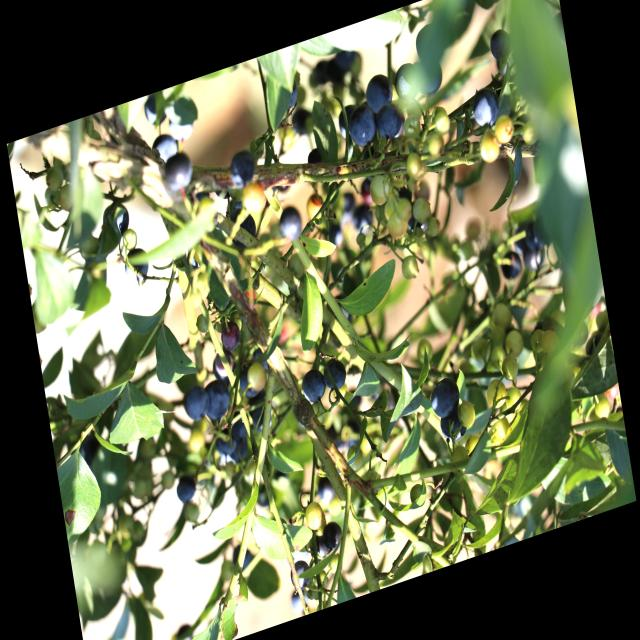blueberry: (426, 374, 463, 426), (372, 98, 410, 146), (161, 147, 196, 196), (201, 376, 235, 424), (346, 104, 380, 152), (118, 244, 152, 292), (483, 22, 516, 68), (362, 73, 395, 115), (182, 380, 212, 425), (320, 353, 348, 398), (229, 146, 256, 192), (236, 363, 267, 401), (150, 128, 180, 167), (469, 90, 498, 130), (288, 554, 314, 598), (438, 409, 467, 447), (300, 372, 328, 411), (171, 470, 198, 510), (277, 202, 304, 242), (318, 517, 346, 555), (216, 316, 243, 354), (248, 398, 276, 434)
blueberry-unripe: (382, 205, 409, 247), (302, 496, 328, 536), (476, 127, 501, 167), (396, 250, 422, 288), (367, 170, 390, 212), (484, 374, 509, 412), (487, 411, 513, 447), (428, 104, 453, 141), (502, 326, 528, 359), (498, 351, 522, 386), (456, 396, 478, 432), (491, 113, 515, 146), (412, 195, 432, 230), (592, 392, 613, 424), (405, 150, 425, 182), (541, 328, 561, 358), (504, 386, 524, 415), (450, 444, 470, 473), (425, 130, 444, 160), (462, 433, 482, 457), (528, 327, 546, 352), (394, 197, 412, 220)
